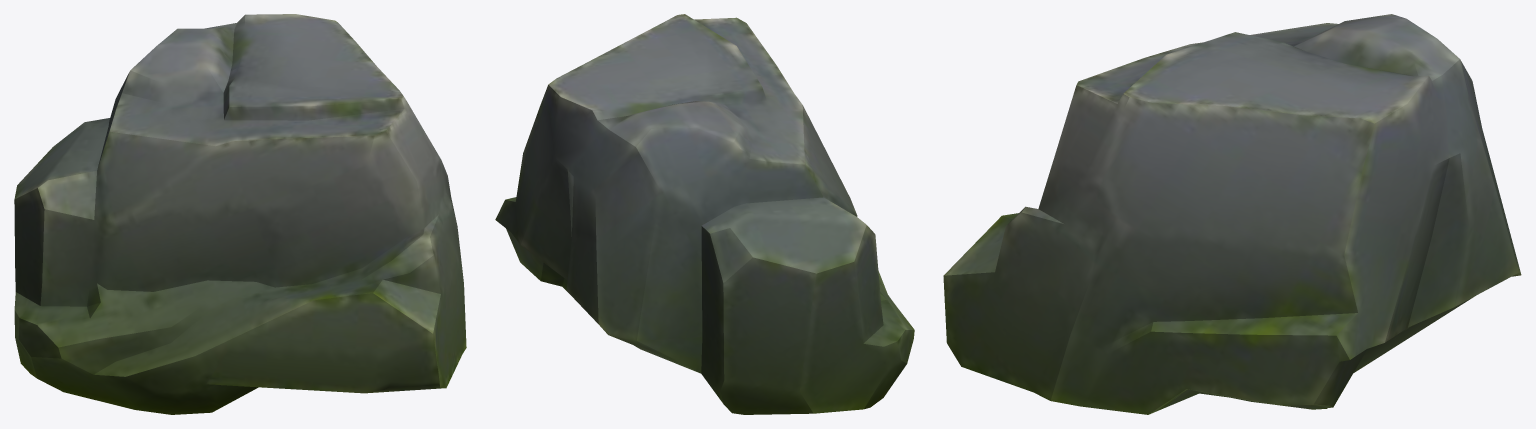
File: Rock_Medium_3.gltf
3 renders of one model, left to right at view 1: azimuth 30°, elevation 25°; view 2: azimuth 150°, elevation 25°; view 3: azimuth 270°, elevation 25°, orthographic. The views are drawn at different scales.
Parts seen in each view (by area): view 1: Rock_Medium_3; view 2: Rock_Medium_3; view 3: Rock_Medium_3.
Boxes of the visible parts, left/top/right/bottom form: Rock_Medium_3: left=14, top=14, right=466, bottom=414; Rock_Medium_3: left=495, top=14, right=914, bottom=414; Rock_Medium_3: left=943, top=14, right=1521, bottom=414.
Size of the model in its own units: 3.42 by 2.32 by 3.48.
1 material, 1 textured.
